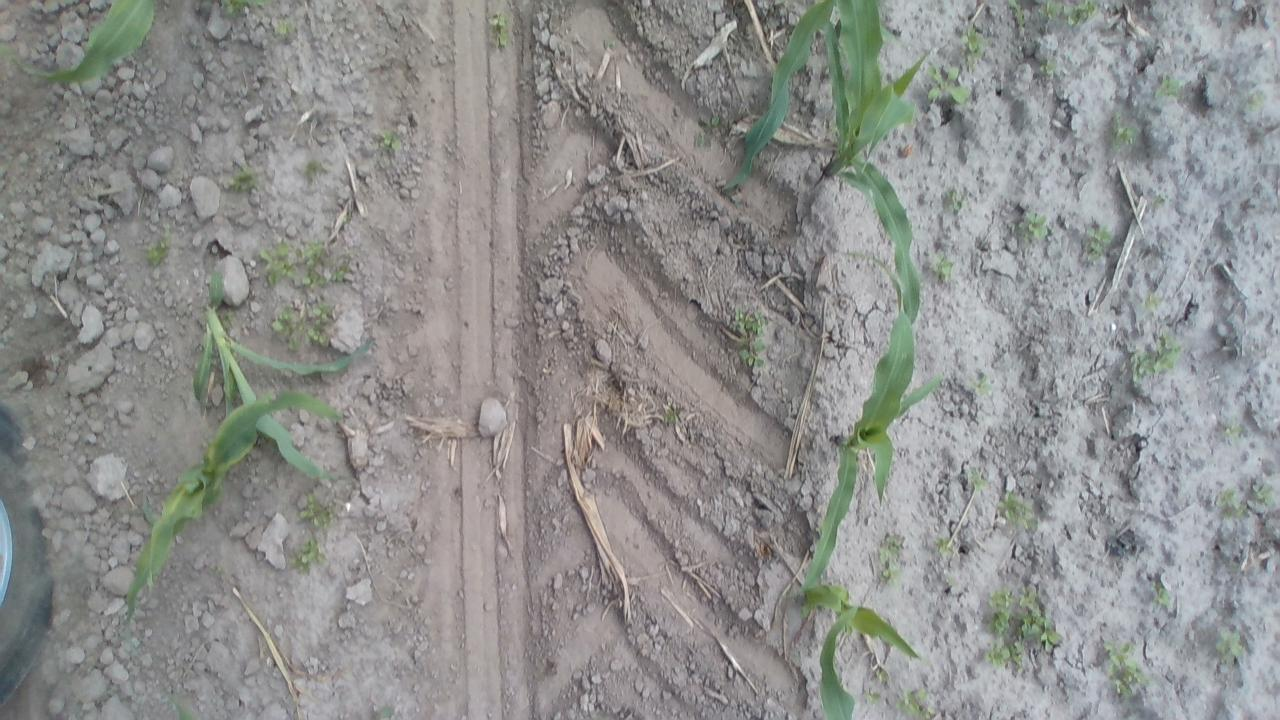Maize: (118, 388, 358, 633), (788, 238, 942, 597), (177, 253, 376, 478), (806, 4, 928, 319), (719, 0, 856, 194), (792, 569, 926, 718), (0, 2, 162, 98)
Weeds: (978, 582, 1060, 674), (256, 242, 332, 290), (1100, 636, 1152, 700), (1128, 328, 1183, 384), (732, 306, 777, 372), (924, 64, 970, 109), (874, 536, 910, 590), (1034, 0, 1100, 29), (994, 490, 1038, 533), (1080, 222, 1117, 266), (1210, 628, 1249, 668), (298, 493, 339, 531), (270, 305, 302, 353), (288, 535, 328, 573), (896, 686, 939, 718), (958, 26, 991, 66), (304, 302, 332, 348), (1018, 207, 1052, 244), (692, 111, 723, 150), (226, 162, 262, 195), (1212, 484, 1248, 517), (1104, 113, 1134, 151), (487, 12, 514, 53), (1155, 72, 1185, 103), (213, 0, 270, 16), (376, 127, 406, 156), (1150, 580, 1176, 613), (146, 237, 172, 269), (332, 252, 356, 286), (299, 157, 330, 183), (1250, 478, 1276, 508), (967, 371, 993, 401), (1240, 86, 1265, 116), (944, 185, 968, 216), (930, 252, 956, 280), (1220, 421, 1250, 445), (932, 533, 958, 560), (963, 467, 988, 494), (270, 19, 298, 42), (1140, 288, 1164, 314), (1006, 1, 1030, 25), (1035, 56, 1061, 78), (662, 402, 684, 428), (870, 664, 894, 687), (370, 702, 400, 718), (1150, 188, 1168, 211), (862, 690, 884, 708), (602, 37, 618, 53)
